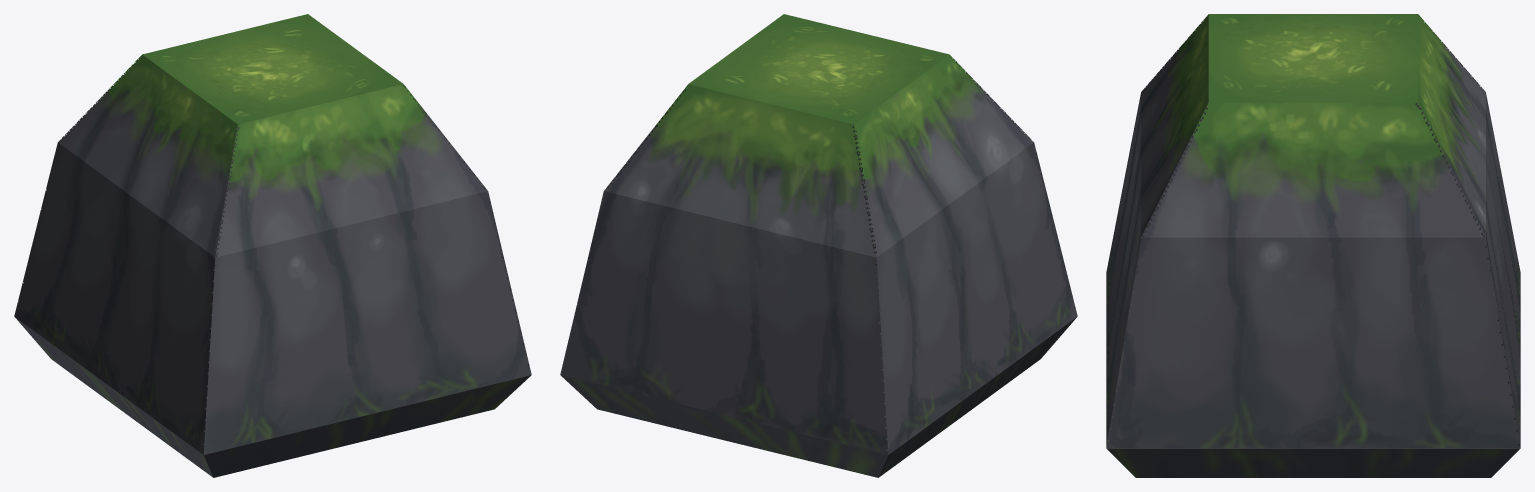
Rendered from mossyrock.obj.
3 views of the same model, side by side, from view 1: azimuth 30°, elevation 25°; view 2: azimuth 150°, elevation 25°; view 3: azimuth 270°, elevation 25° (orthographic). The views are drawn at different scales.
Visible parts, largest first — view 1: moss_stone; view 2: moss_stone; view 3: moss_stone.
Part boxes in pixels (box(x1,y1,x2,y2)): moss_stone: box(14, 14, 531, 477); moss_stone: box(560, 14, 1077, 477); moss_stone: box(1106, 14, 1520, 477).
Bounding box in the file's own units: 2.36 × 2.16 × 2.36.
Materials: 1 (1 with a texture image).
